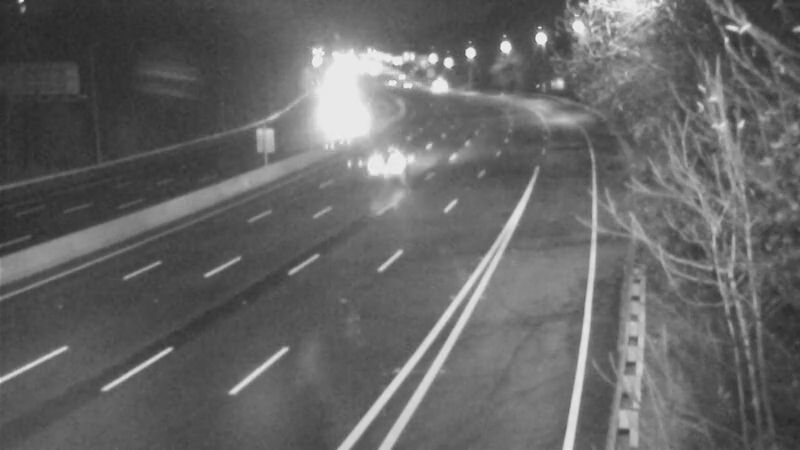vehicle: (344, 126, 424, 206)
